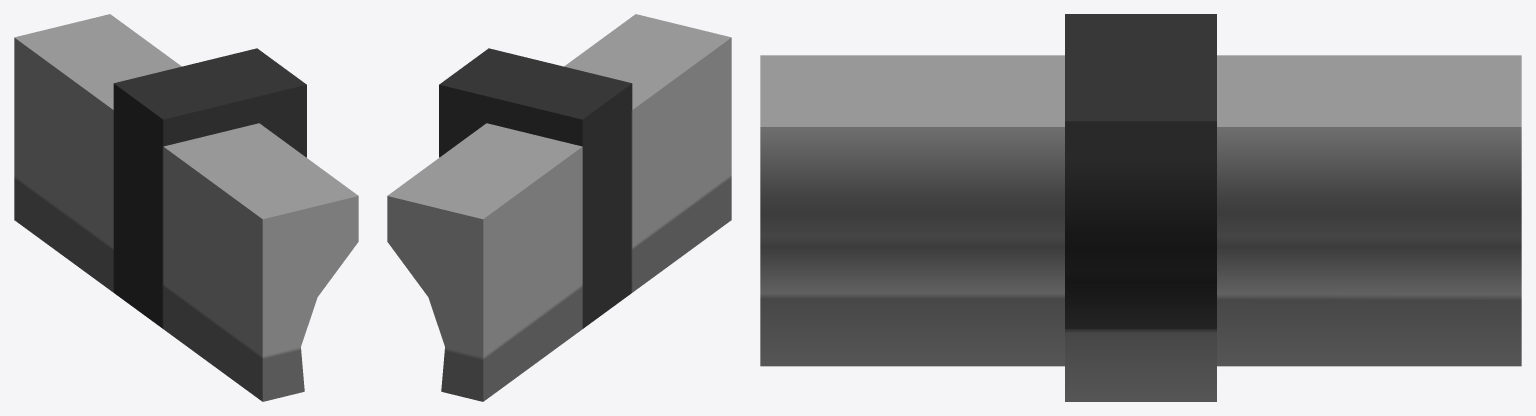
The model's file is Wall.fbx.
3 views of the same model, side by side, from view 1: azimuth 30°, elevation 25°; view 2: azimuth 150°, elevation 25°; view 3: azimuth 270°, elevation 25° (orthographic). The views are drawn at different scales.
Parts seen in each view (by area): view 1: pCube1; view 2: pCube1; view 3: pCube1.
Part boxes in pixels (x1,y1,x2,y2): pCube1: (14,14,358,401); pCube1: (387,14,731,401); pCube1: (760,14,1521,401).
Bounding box in the file's own units: 4.93 × 6.88 × 14.8.
Materials: 1 (1 with a texture image).
